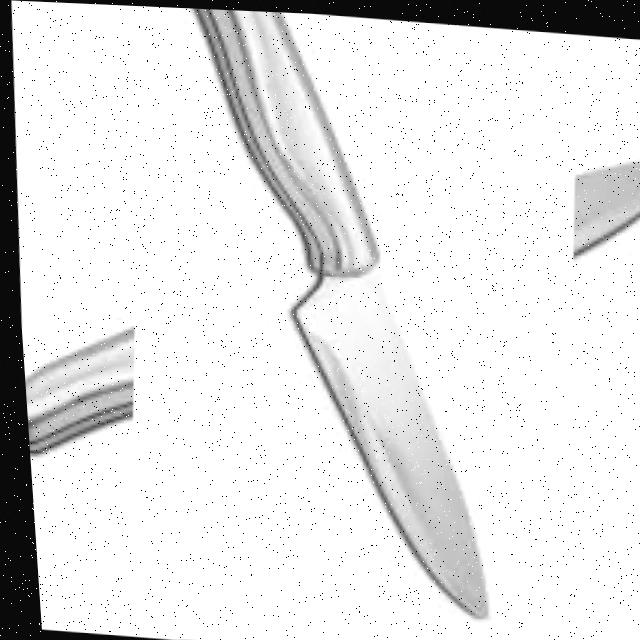knife: (149, 5, 502, 621)
